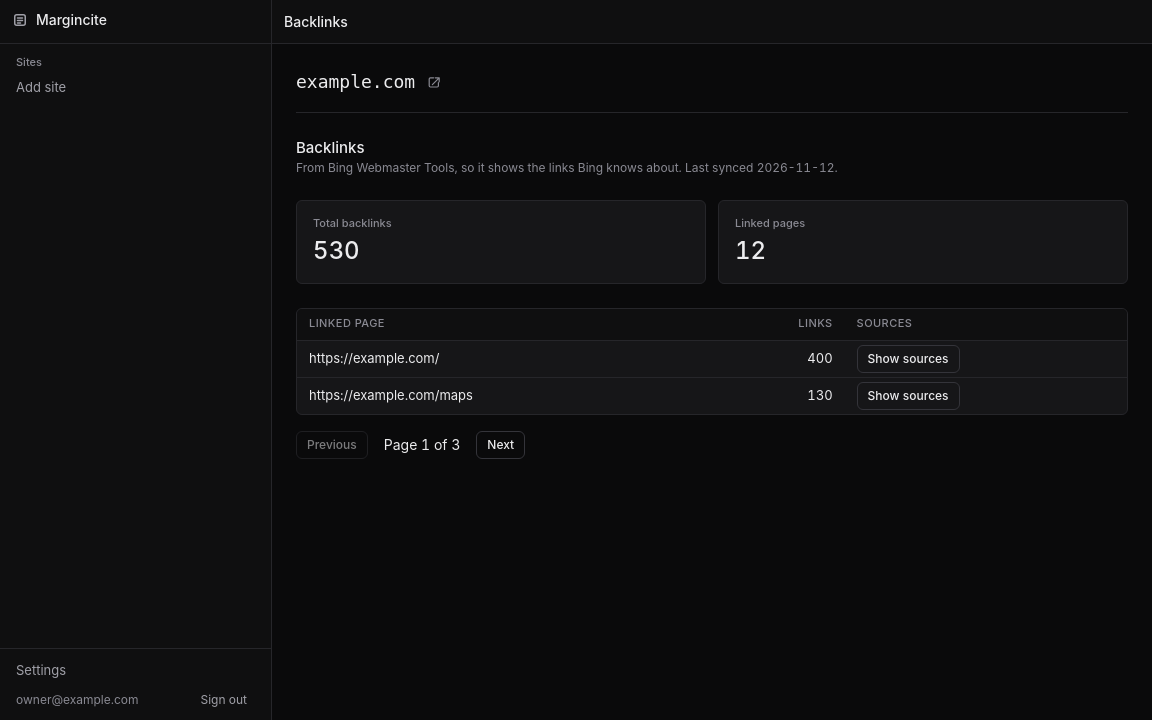
Scenario: sources can be closed and a failing request shows its message
Click the button with aria-label "Show sources for https://example.com/". click: click(908, 359)
box: [857,345,960,373]
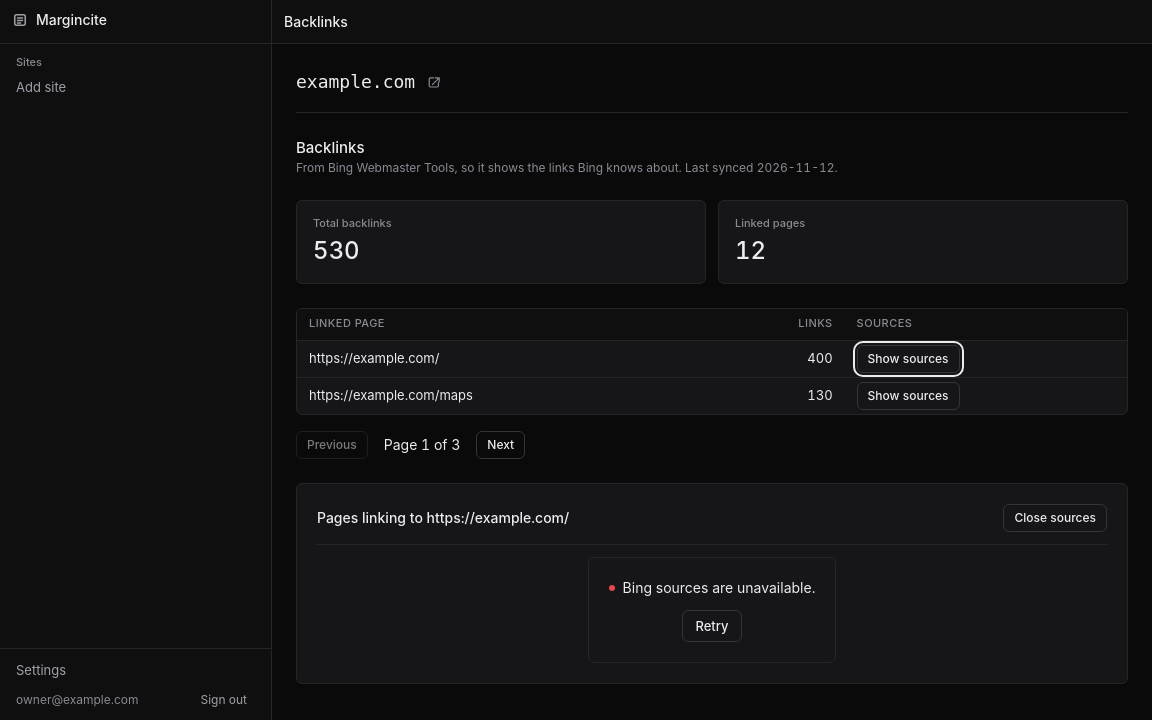
Now the text "Bing sources are unavailable." is shown, box [609,578,815,598]
Click the button "Close sources". click: click(1055, 518)
box: [1003,504,1107,532]
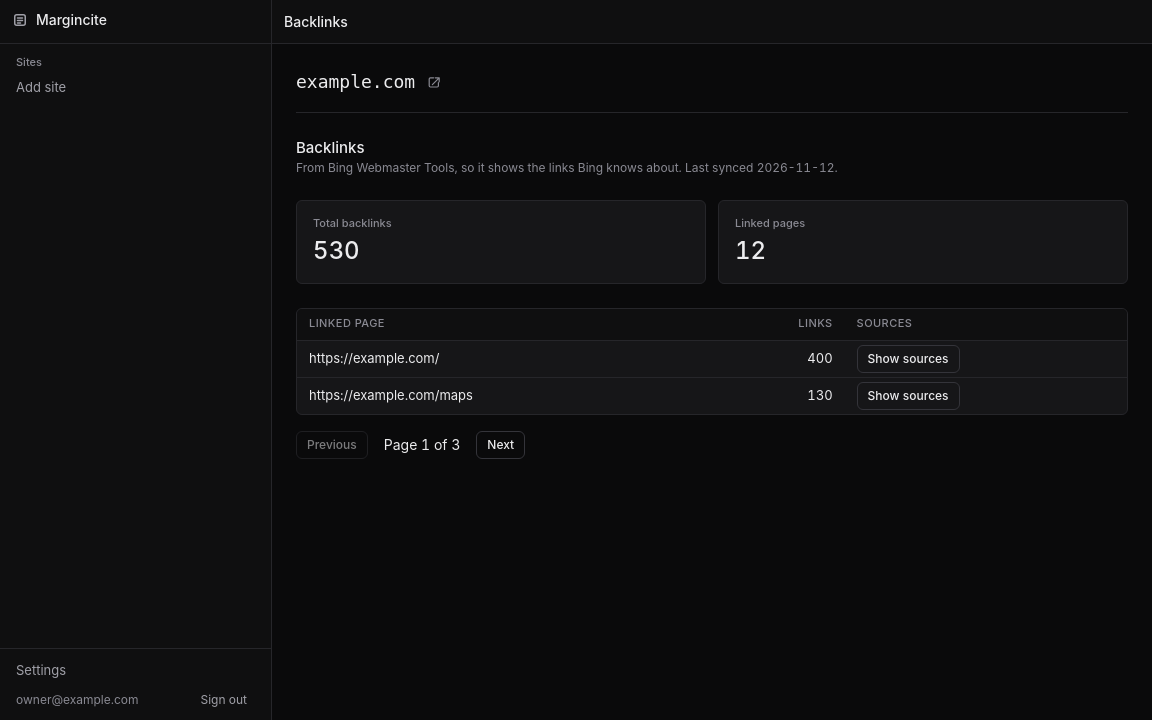
Now the text "Bing sources are unavailable." is gone
